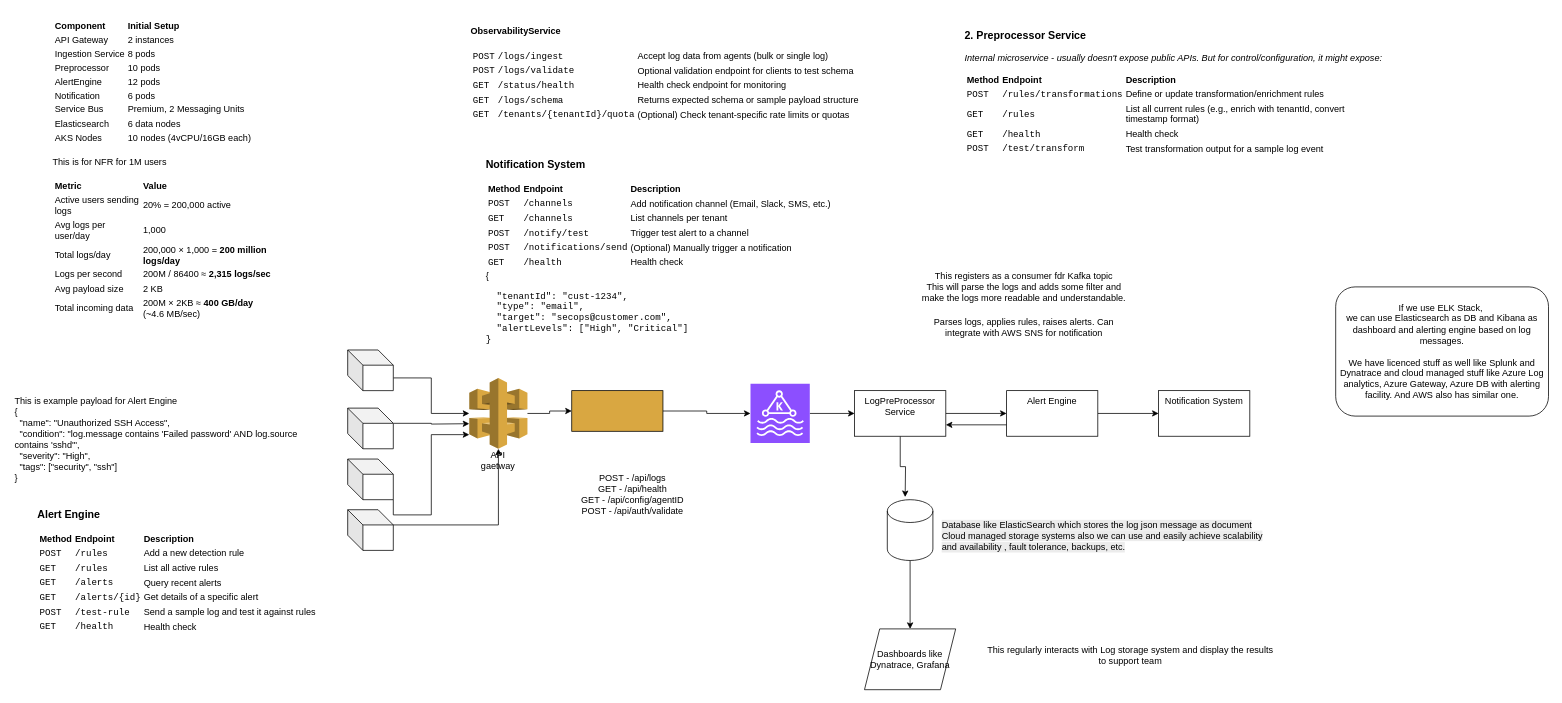
This 1562x703 diagram has some shape labels left out. The centre of each missing label's shape, as x and y in pixels:
"Elastic search" goes at (910,529).
"ObservabilityService" goes at (617,410).
